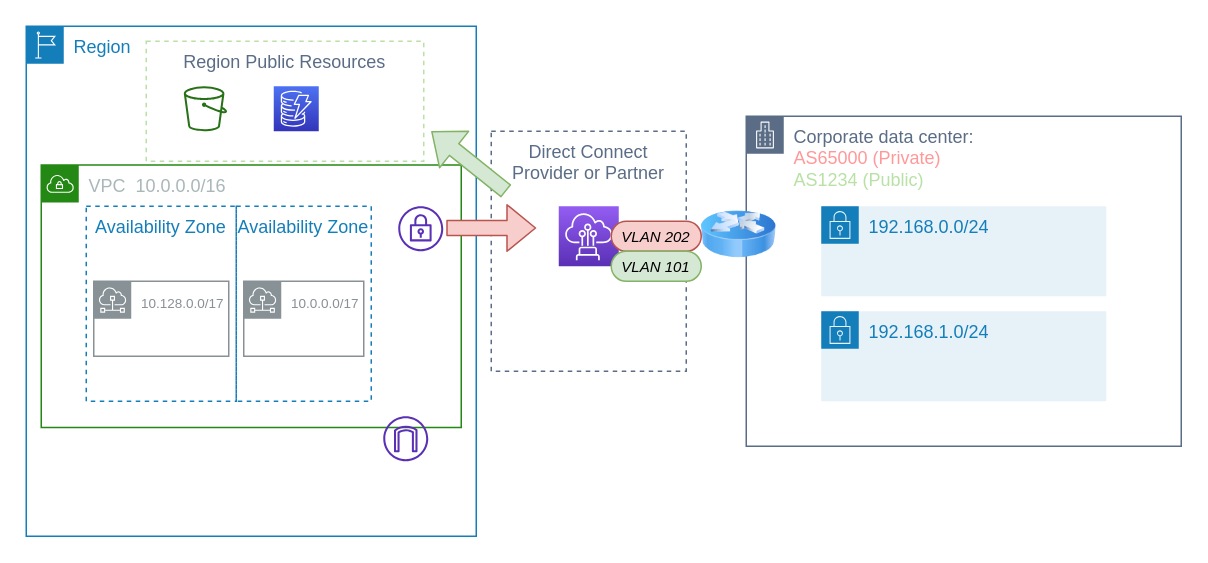
This 1208x563 diagram has some shape labels left out. Each missing label, with the centre of its shape:
Direct Connect Router: the point at 588,235
Dynamo DB: the point at 295,108
Internet Gateway: the point at 405,438
S3: the point at 204,108
VPN Gateway: the point at 420,228
